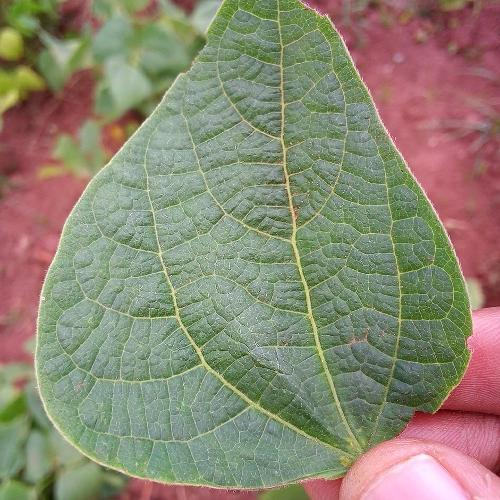embun tepung: (135, 124, 368, 466)
